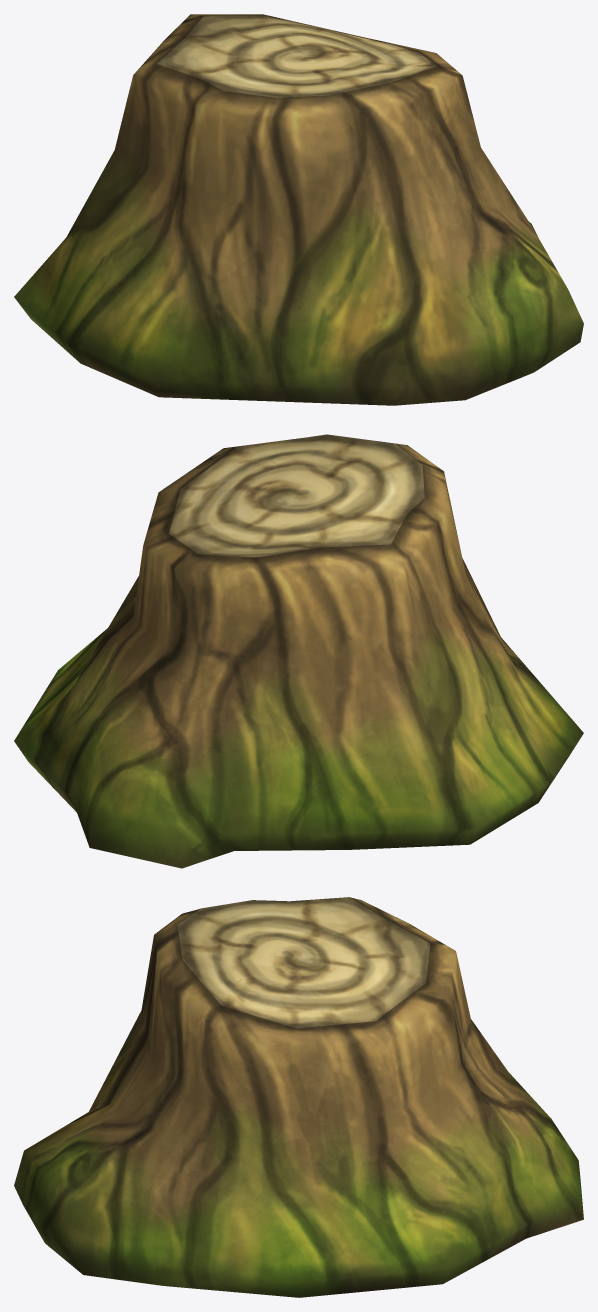
The model's file is stomp.FBX.
3 renders of one model, top to bottom at view 1: azimuth 30°, elevation 25°; view 2: azimuth 150°, elevation 25°; view 3: azimuth 270°, elevation 25°, orthographic. The views are drawn at different scales.
Parts seen in each view (by area): view 1: stomp; view 2: stomp; view 3: stomp.
Boxes of the visible parts, x1,y1,x2,y2 form: stomp: (14, 14, 583, 405); stomp: (14, 434, 583, 868); stomp: (14, 897, 583, 1297).
Size of the model in its own units: 2.36 by 1.26 by 2.55.
